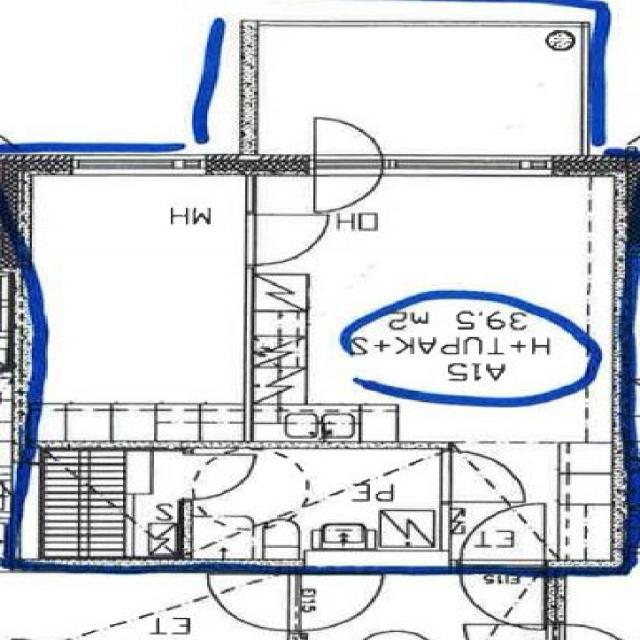door: (460, 502, 544, 572), (460, 561, 544, 630), (315, 154, 383, 222), (315, 107, 383, 175), (441, 452, 524, 503), (245, 216, 328, 266), (180, 455, 256, 500)
